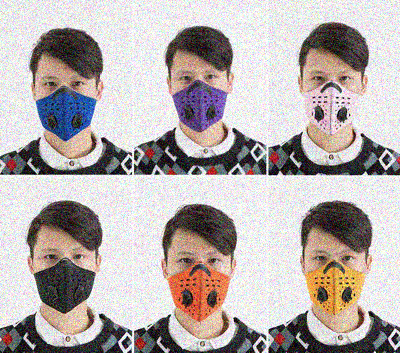with_mask: (170, 248, 231, 321), (33, 244, 95, 312), (36, 73, 95, 141), (304, 67, 363, 135), (306, 248, 366, 313), (175, 67, 228, 133)
